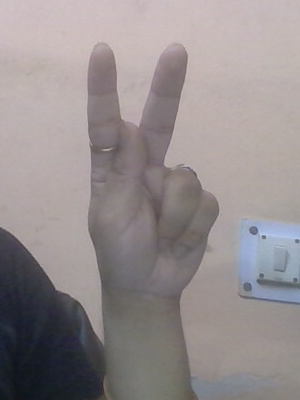K: (76, 36, 285, 245)
